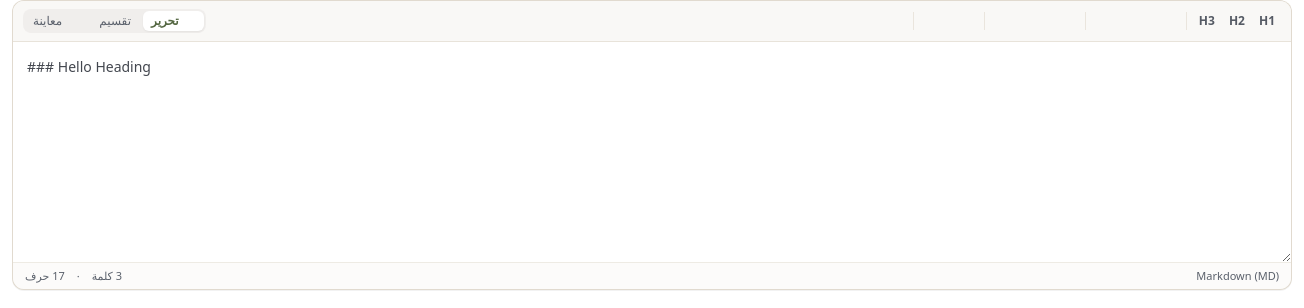
Scenario: MarkdownEditor › renders preview when switched to preview mode
Click the button "معاينة". click: (56, 21)
box: 25,11 -> 87,31
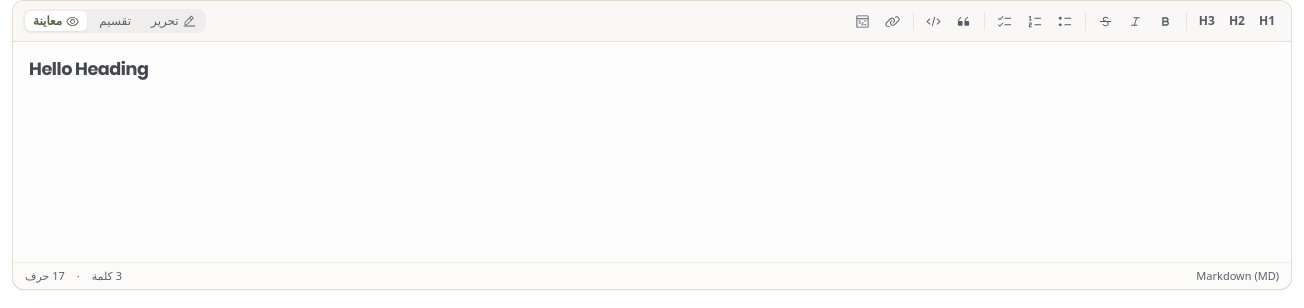
Expected: the element with class "add-markdown-content" is shown, 29,57 -> 148,81
